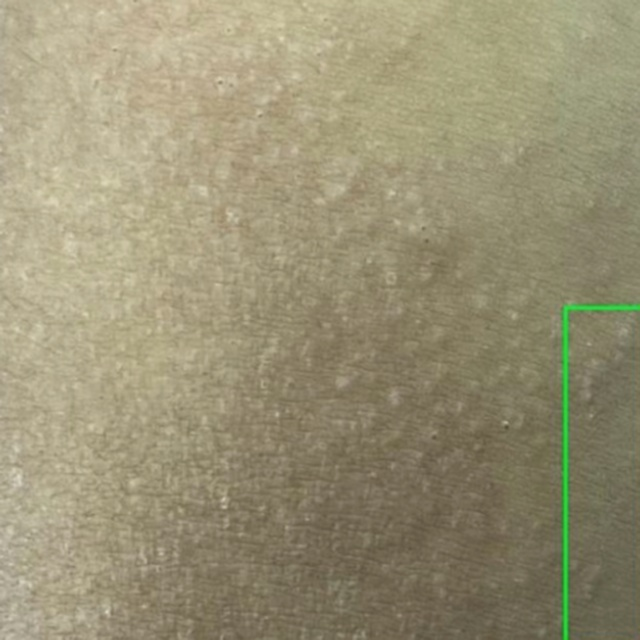Contact Dermatitis: (565, 307, 639, 639)
